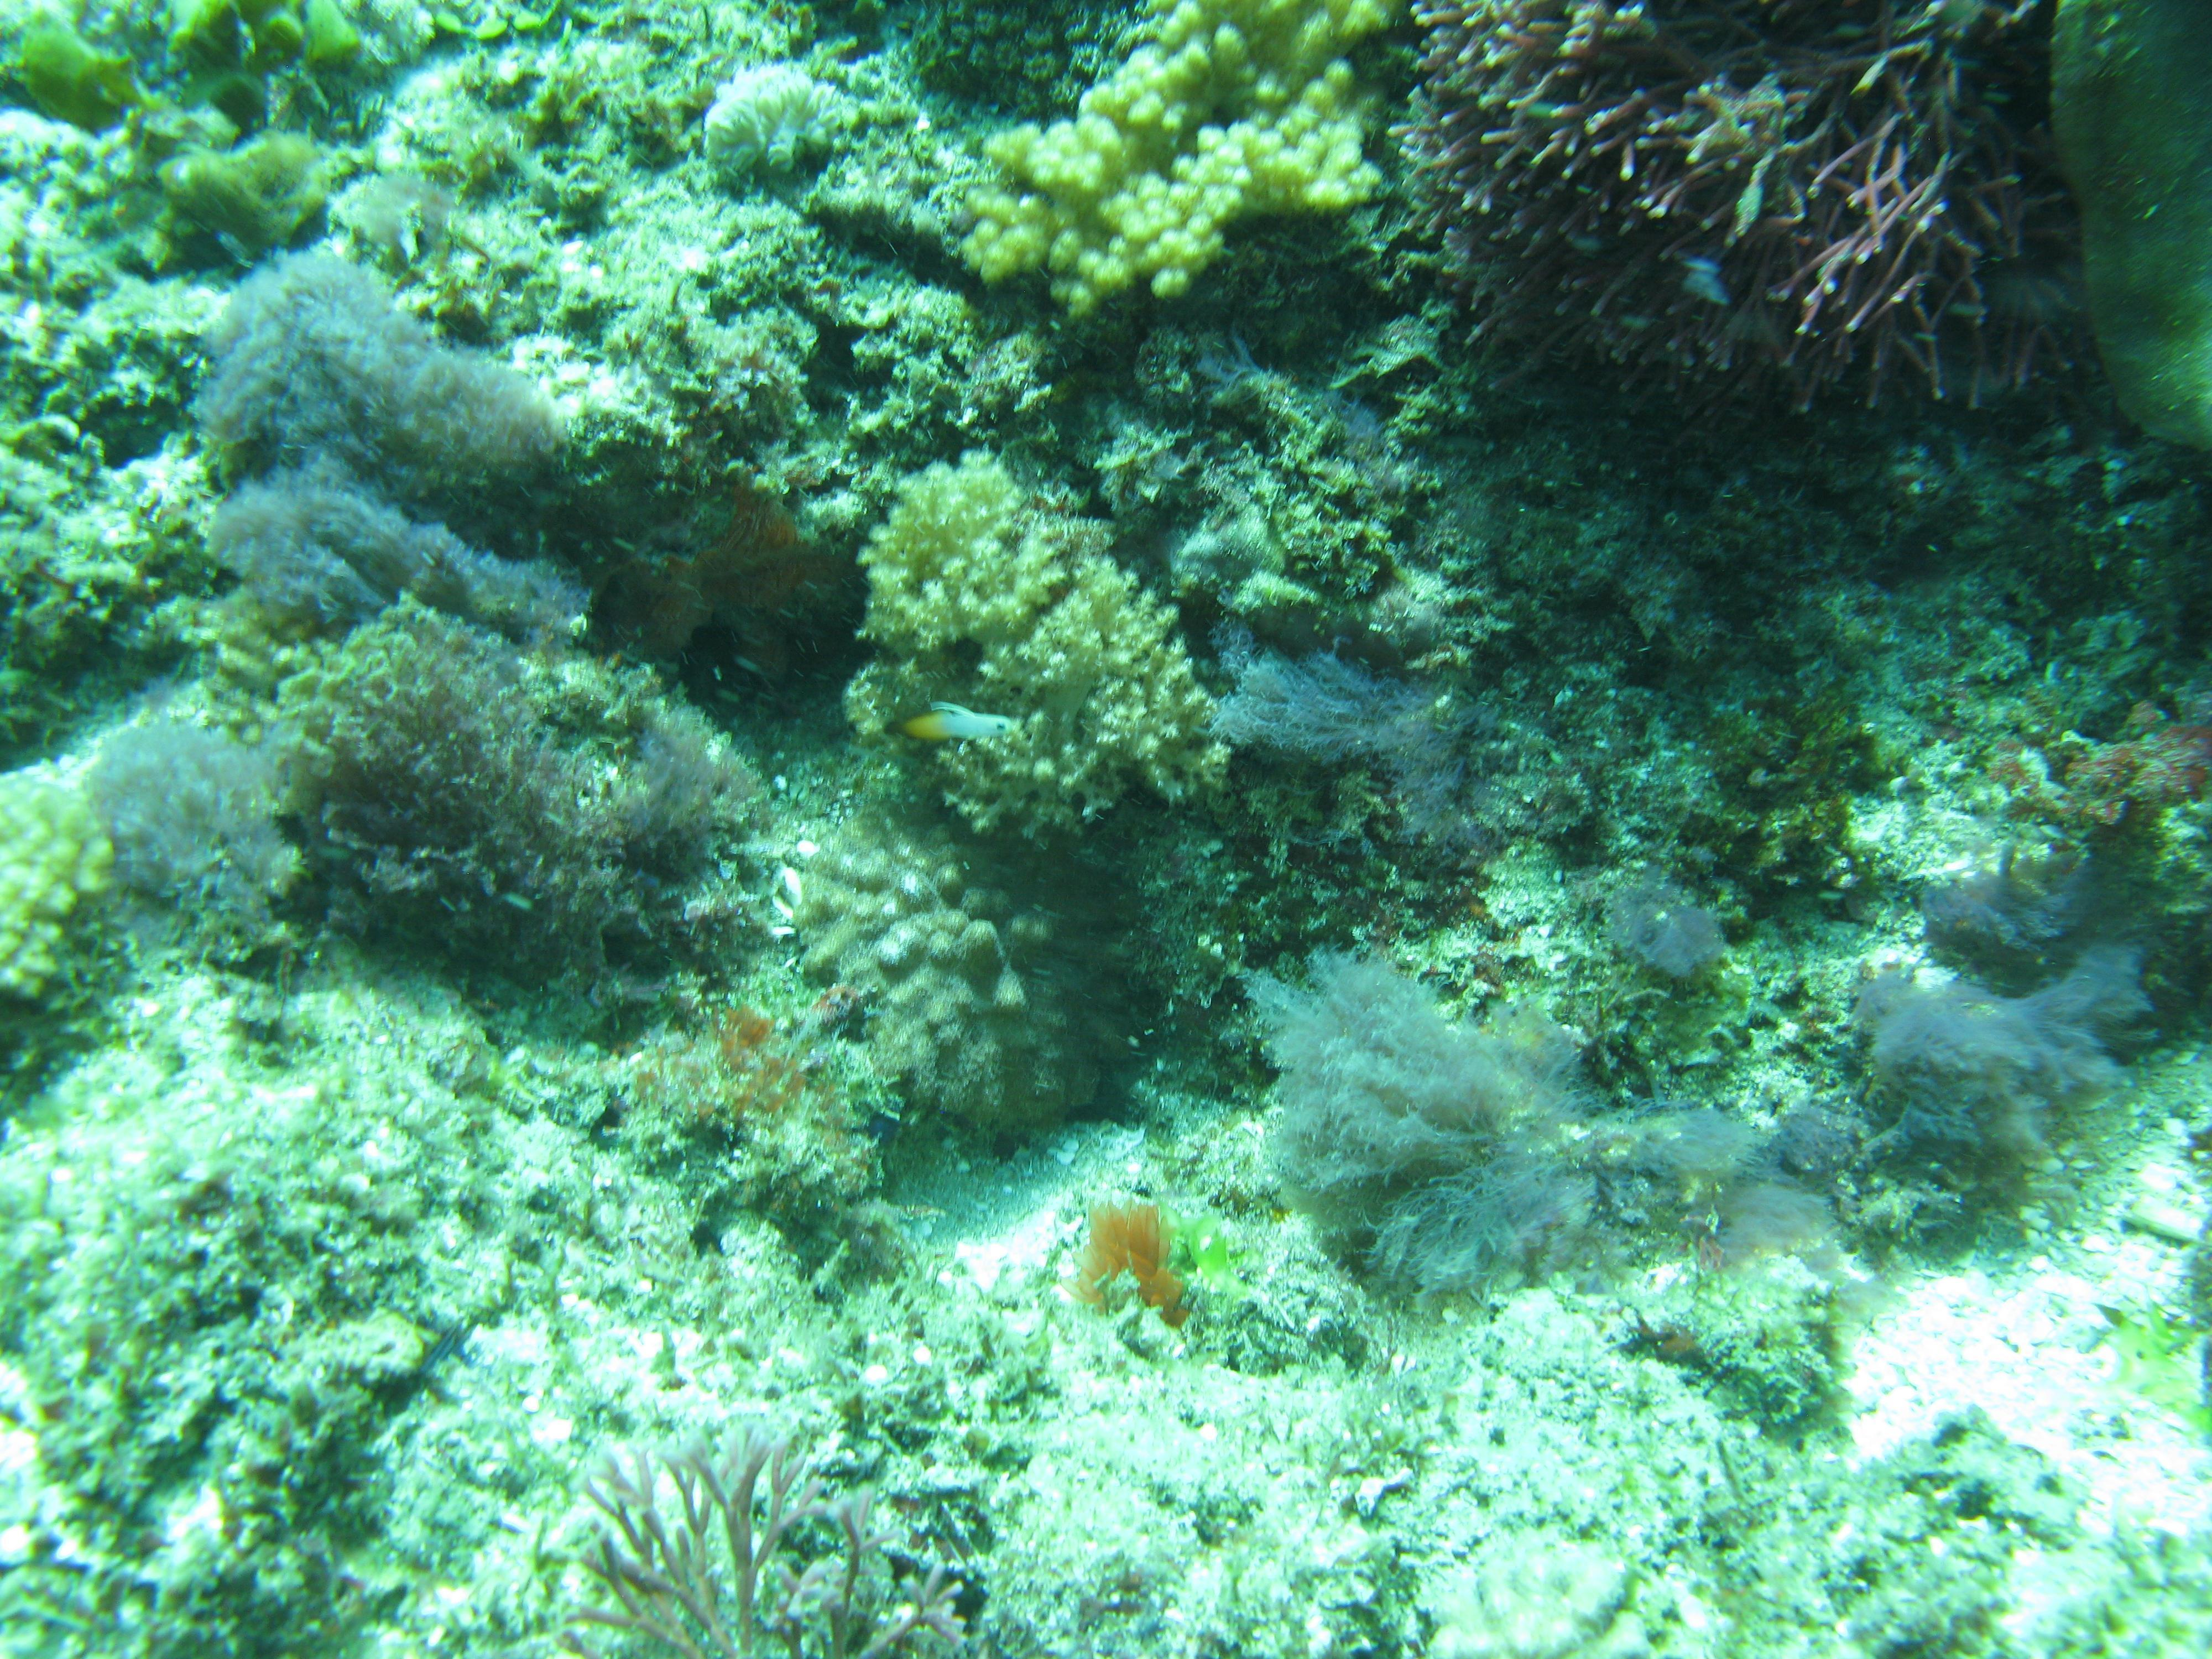Fish: (857, 673, 1080, 817)
